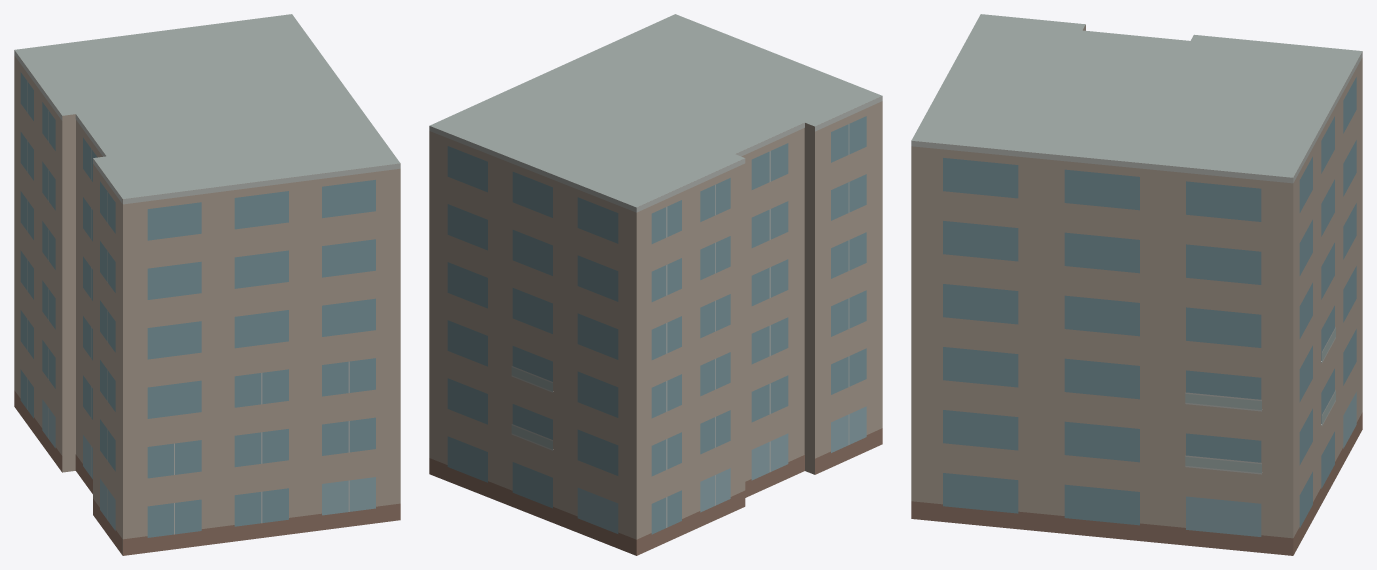
File: survey-upis-33011633.glb
3 renders of one model, left to right at view 1: azimuth 30°, elevation 25°; view 2: azimuth 150°, elevation 25°; view 3: azimuth 270°, elevation 25°, orthographic. The views are drawn at different scales.
Parts seen in each view (by area): view 1: survey-upis-33011633.tmp; view 2: survey-upis-33011633.tmp; view 3: survey-upis-33011633.tmp.
Boxes of the visible parts, x1=… form: survey-upis-33011633.tmp: x1=14, y1=14, x2=400, y2=555; survey-upis-33011633.tmp: x1=429, y1=14, x2=882, y2=555; survey-upis-33011633.tmp: x1=911, y1=14, x2=1362, y2=555.
Bounding box in the file's own units: 15.34 × 16.5 × 17.86.
